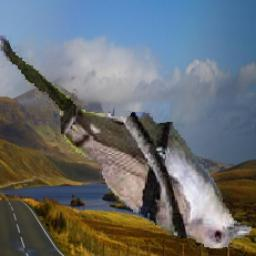Cuckoo: (0, 37, 253, 250)
